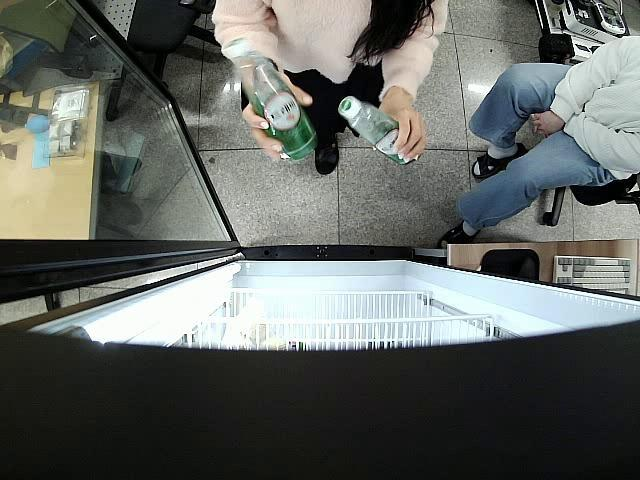18_trevi: (221, 38, 316, 160), (337, 96, 423, 169)
